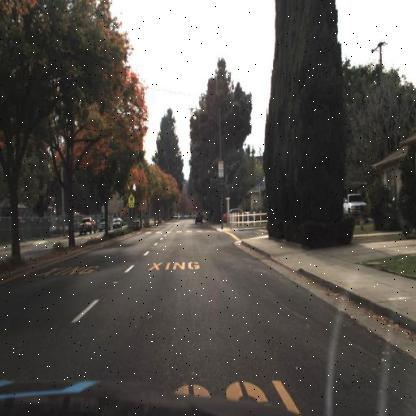car: (342, 192, 367, 219), (78, 217, 96, 237), (192, 209, 206, 228), (97, 215, 109, 229), (112, 216, 122, 228)
